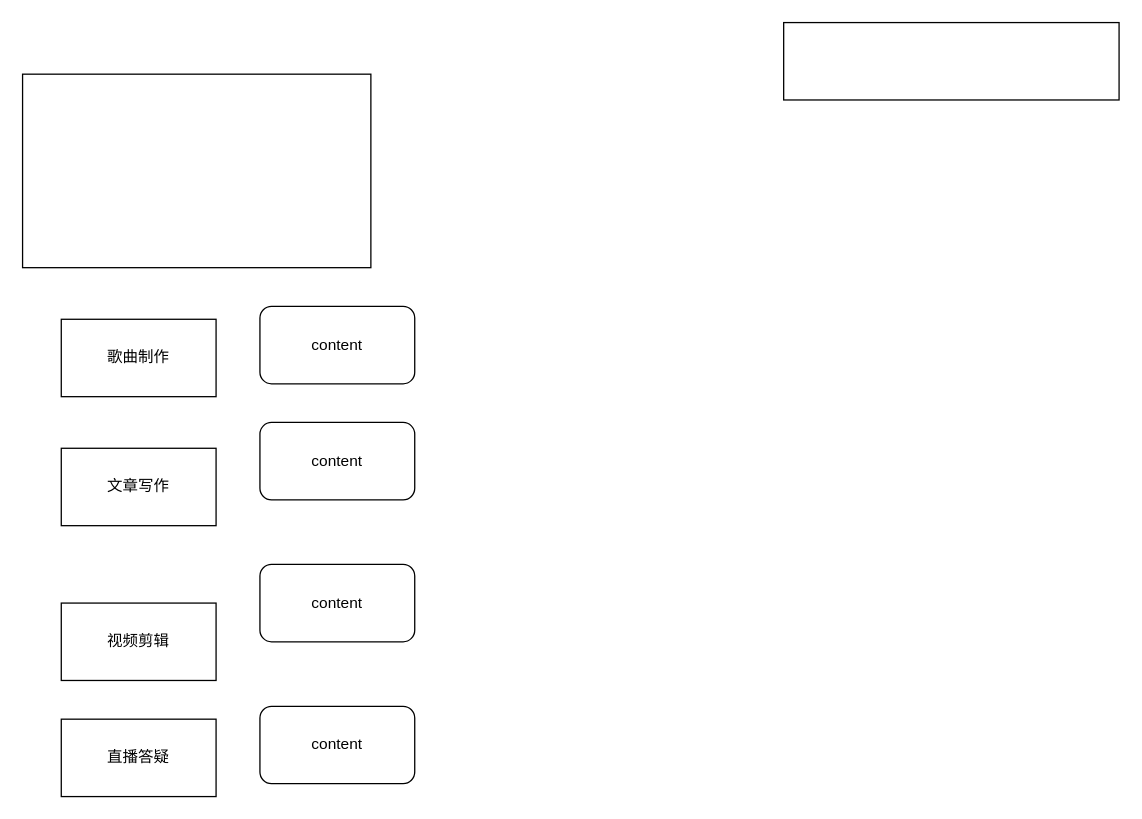
This 1142x819 diagram has some shape labels left out. Each missing label, with the centre of its shape:
发文章的平台 公众号 ——个人思想理论展示 b站专栏 ——小说，故事吸粉。干货思想理论只有粉丝看 小红书 ——干货知识经验。: point 196,170
周计划嵌入到——时间银行， 时间银行复制到——每个时间段。 思考清楚小任务。 小任务——最小任务: point 950,60
